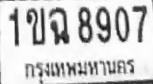0: (114, 5, 129, 42)
1: (8, 6, 18, 46)
7: (131, 4, 146, 42)
8: (77, 6, 92, 42)
9: (95, 5, 110, 42)
A02: (25, 7, 45, 44)
A09: (48, 6, 69, 44)
BKK: (21, 56, 140, 84)
